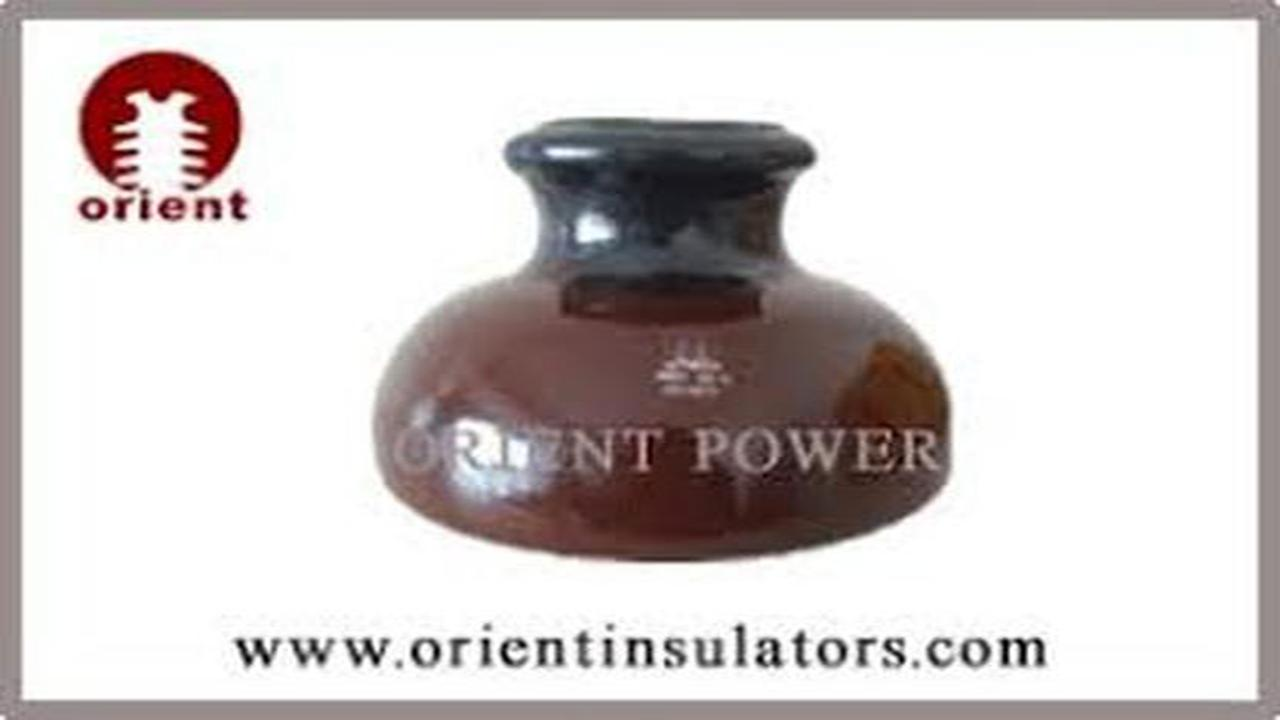insulator_pin: (348, 101, 985, 575)
